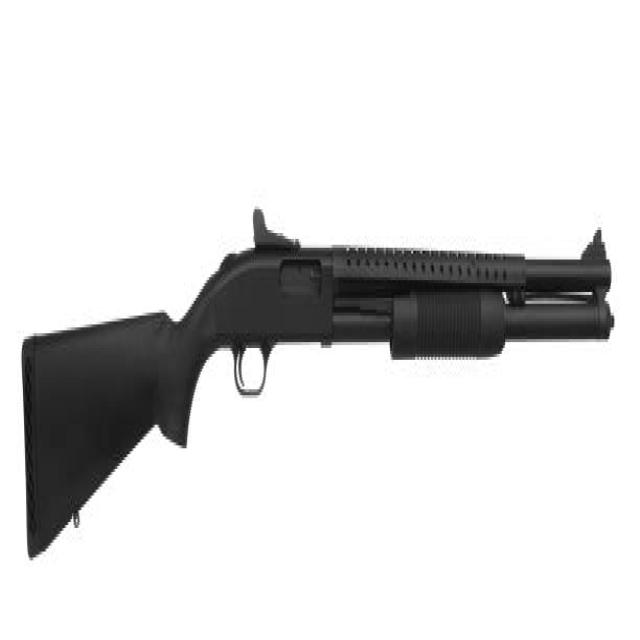rifle: (21, 217, 617, 572)
